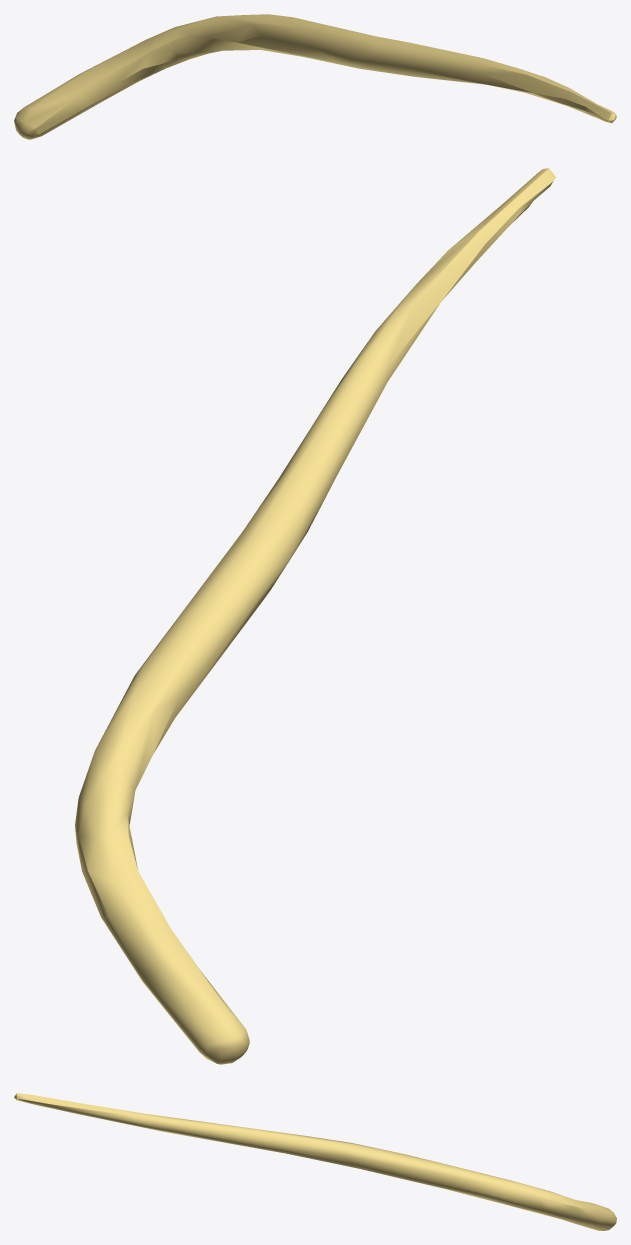
Rendered from fma52596_fj3977.glb.
3 renders of one model, top to bottom at view 1: azimuth 30°, elevation 25°; view 2: azimuth 150°, elevation 25°; view 3: azimuth 270°, elevation 25°, orthographic. The views are drawn at different scales.
Visible parts, largest first — view 1: FMA52596_FJ3977; view 2: FMA52596_FJ3977; view 3: FMA52596_FJ3977.
Boxes of the visible parts, x1,y1,x2,y2 form: FMA52596_FJ3977: (14, 14, 616, 139); FMA52596_FJ3977: (75, 168, 555, 1064); FMA52596_FJ3977: (14, 1093, 616, 1230).
Bounding box in the file's own units: 0.00415 × 0.00522 × 0.0142.
